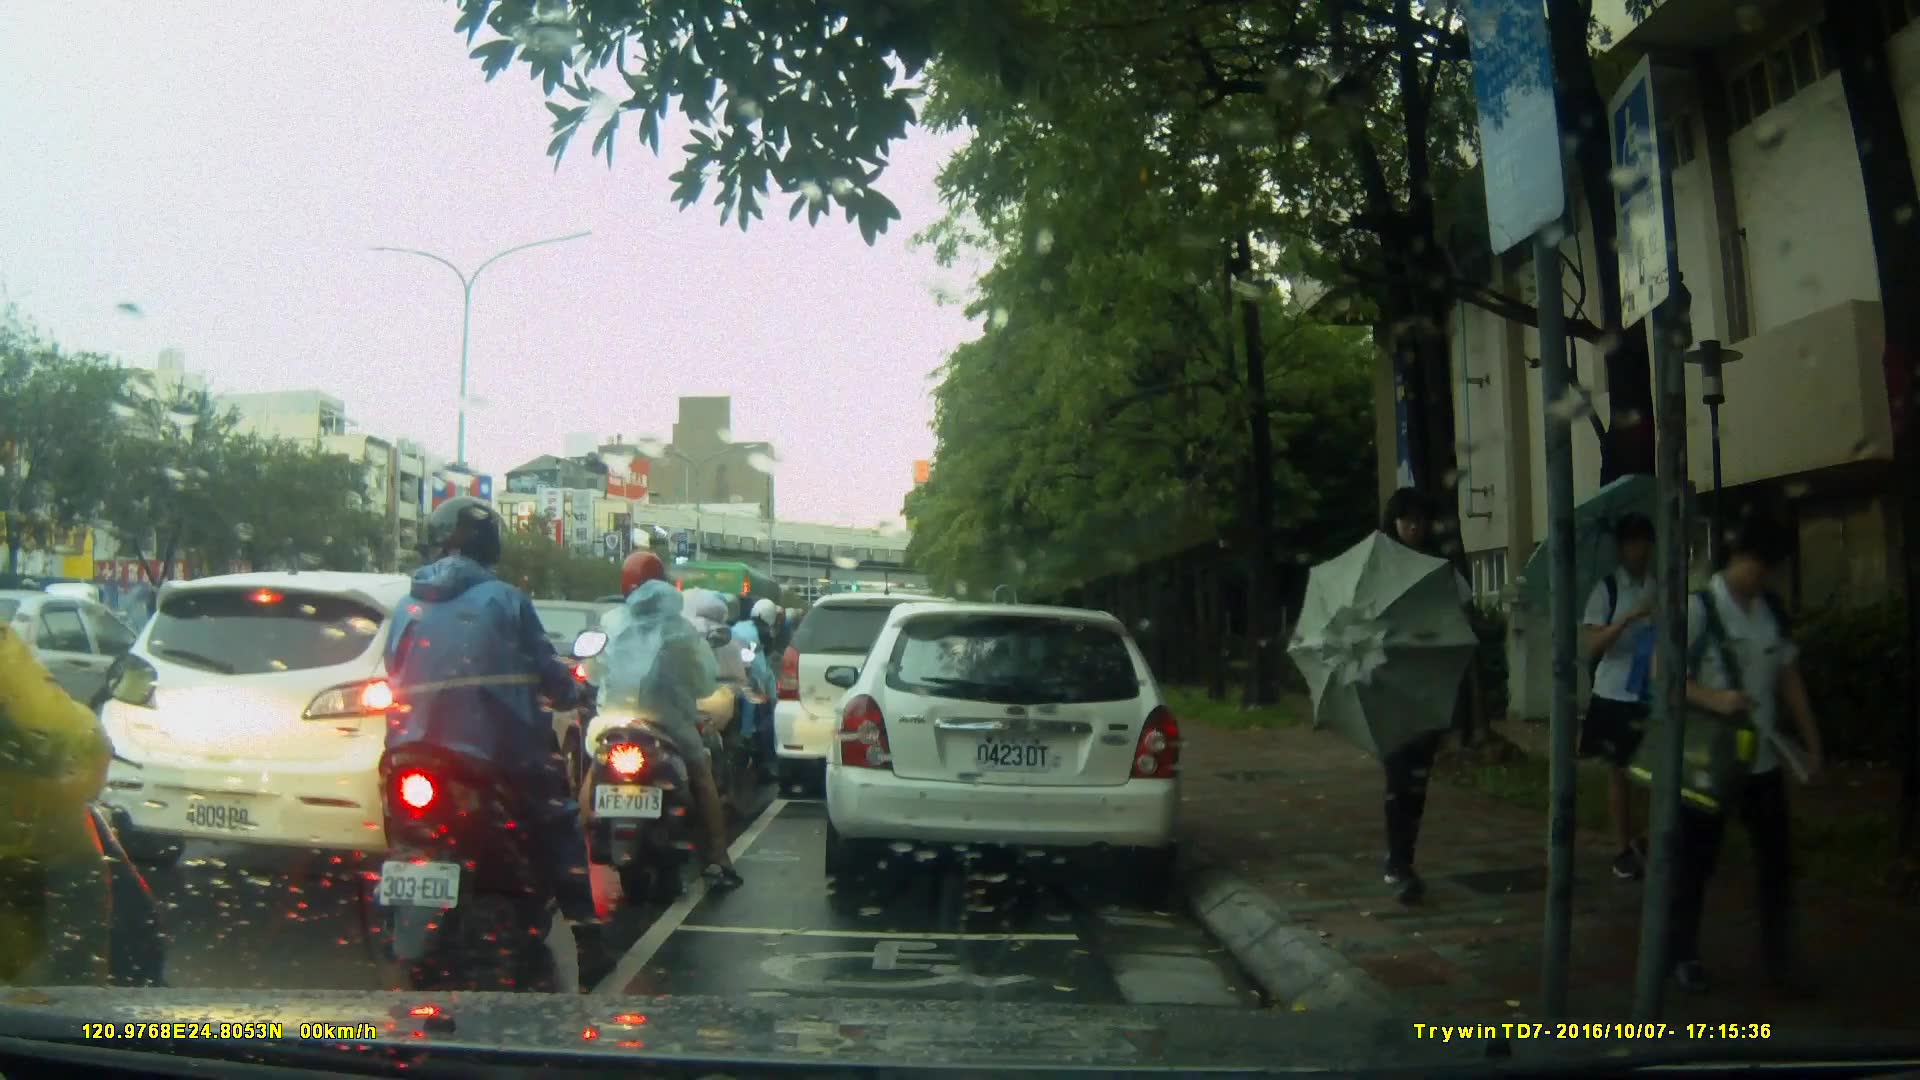pedestrian: (1649, 500, 1810, 1007), (1370, 480, 1479, 914), (1584, 508, 1701, 899)
rider: (374, 499, 613, 973), (1, 455, 178, 1080), (583, 559, 748, 885), (641, 580, 764, 823), (712, 594, 788, 768)
vehicle: (97, 569, 617, 883), (822, 604, 1188, 883), (774, 595, 995, 802), (2, 588, 196, 739)
